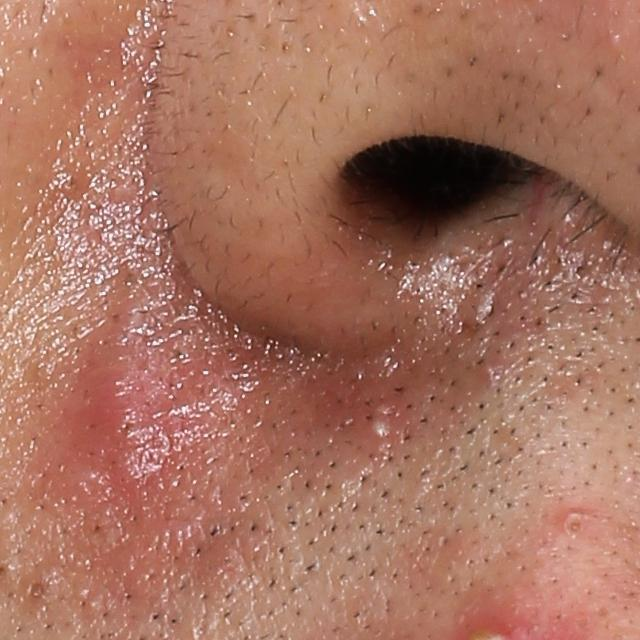comedo: (14, 569, 68, 612)
nodule: (56, 270, 210, 526)
pustule: (362, 392, 399, 445)
